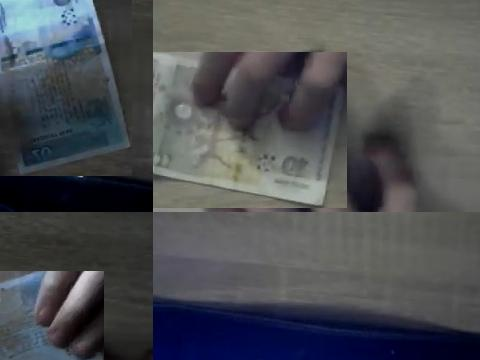10leva: (153, 52, 347, 208)
20leva: (0, 271, 104, 360)
